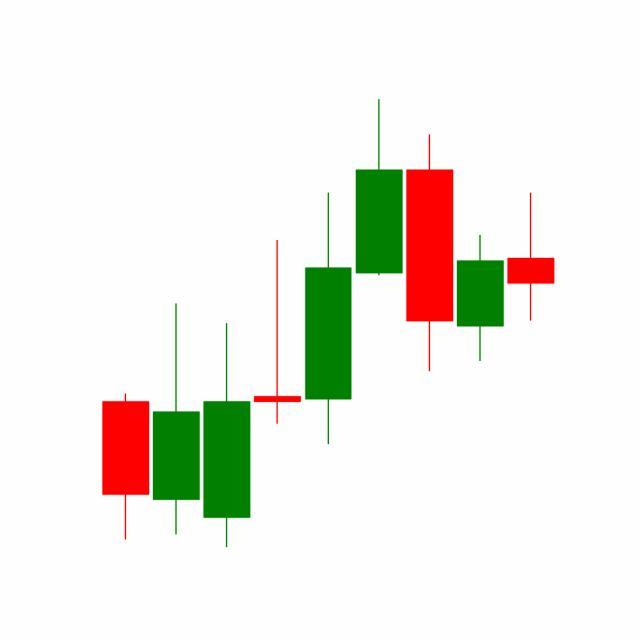Hikkake Pattern: (302, 99, 555, 449)
